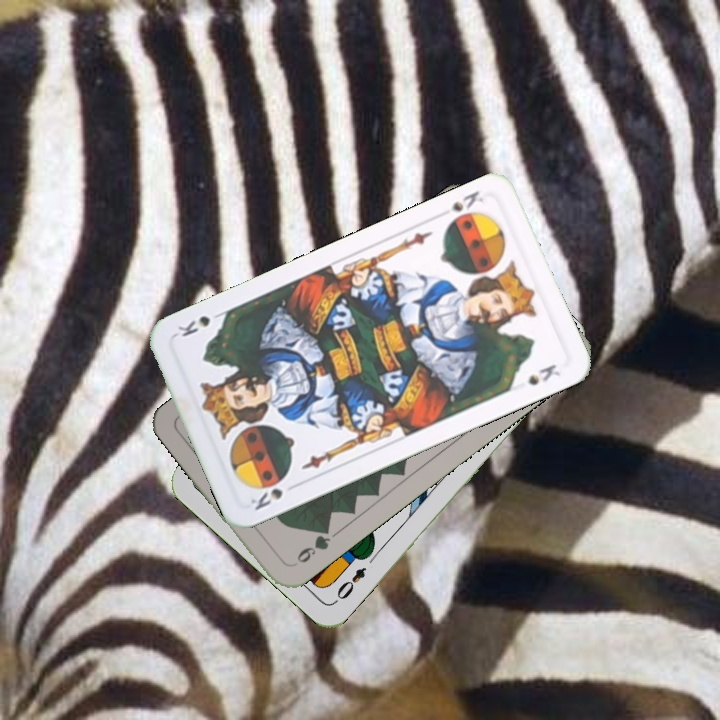EO: (330, 563, 369, 606)
G9: (288, 522, 333, 569)
SK: (246, 479, 301, 513), (447, 186, 487, 215)
